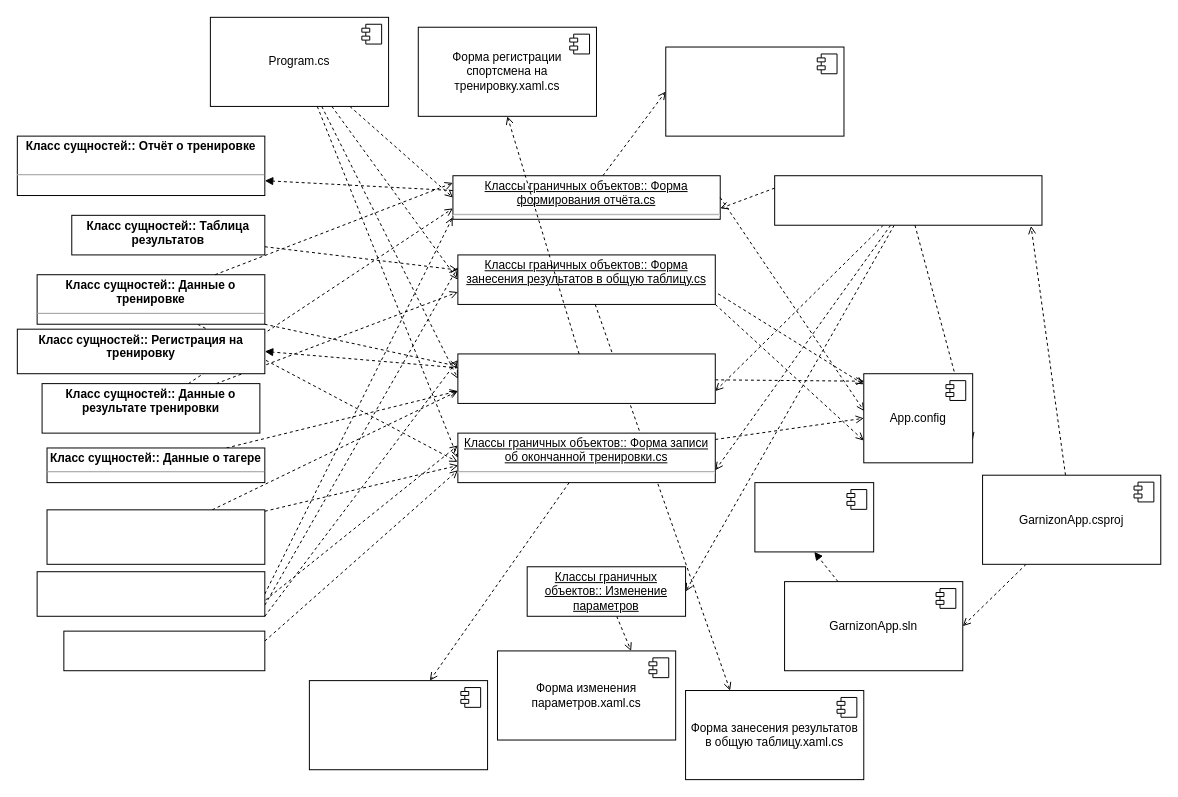
Some shapes in this 1178 by 797 pixel diagram are drawn without their labels. The centre of each missing label's shape, as x and y in pixels:
"GarnizonApp.exe" goes at point (814, 517).
"Класс сущностей:: Данные о команде" goes at point (155, 536).
"Класс сущностей:: Данные о спортсмене" goes at point (150, 593).
"Класс сущностей:: Окончанная тренировка" goes at point (164, 650).
"Классы граничных объектов:: Главная форма" goes at point (908, 200).
"Классы граничных объектов:: Форма регистрации спортсмена на тренировку.cs" goes at point (586, 378).
"Форма записи об окончанной тренировки.xaml.cs" goes at point (398, 725).
"Форма формирования отчёта.xaml.cs" goes at point (754, 91).
